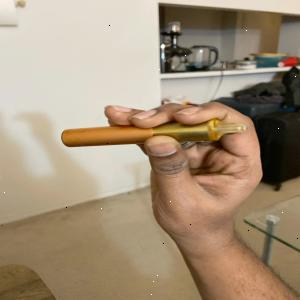Golden-E-Ciggirate: (58, 116, 250, 152)
